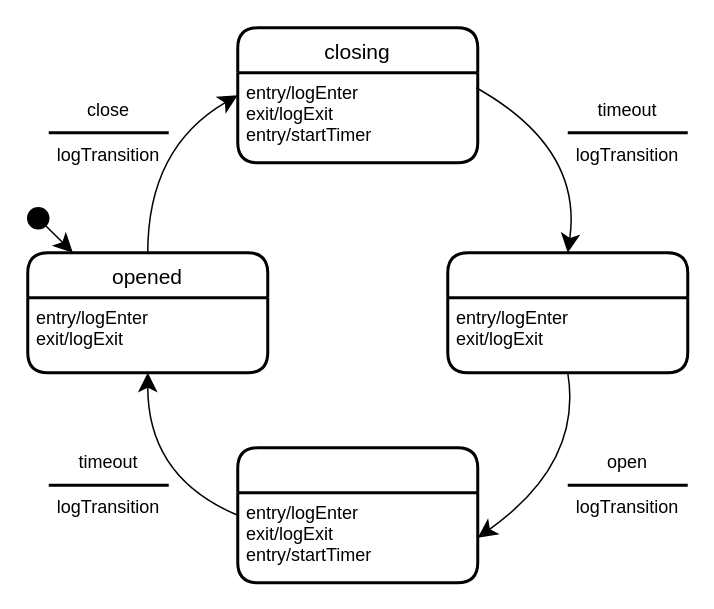
Image size: 714x609. Some labels were removed from this diagram. The shapes that lost their labels are listed below. From the top down, each one's box as (x1, y1, x2, y2) in pixels, then its label:
(446, 250, 688, 374): closed
(236, 446, 478, 584): opening
